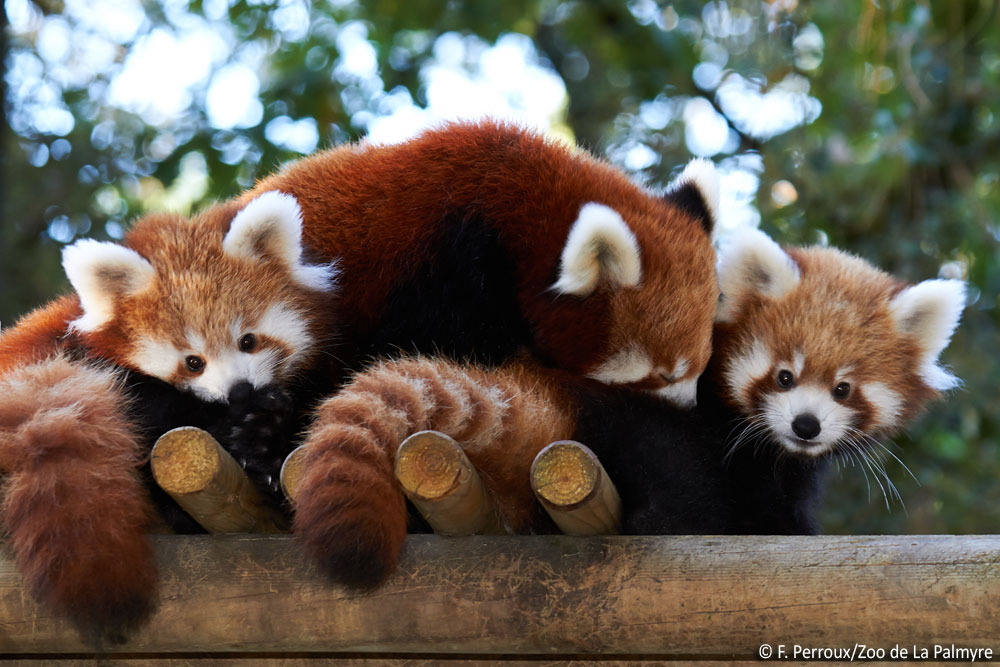red_panda: (243, 119, 718, 409), (672, 241, 951, 533), (60, 193, 309, 505)
